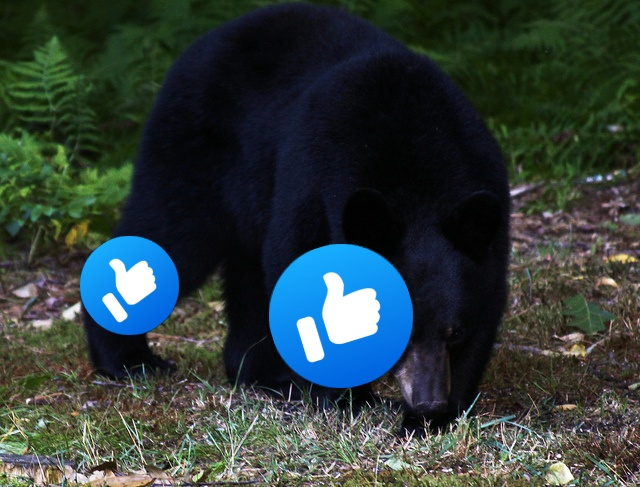like: (269, 244, 413, 388), (80, 236, 179, 335)
